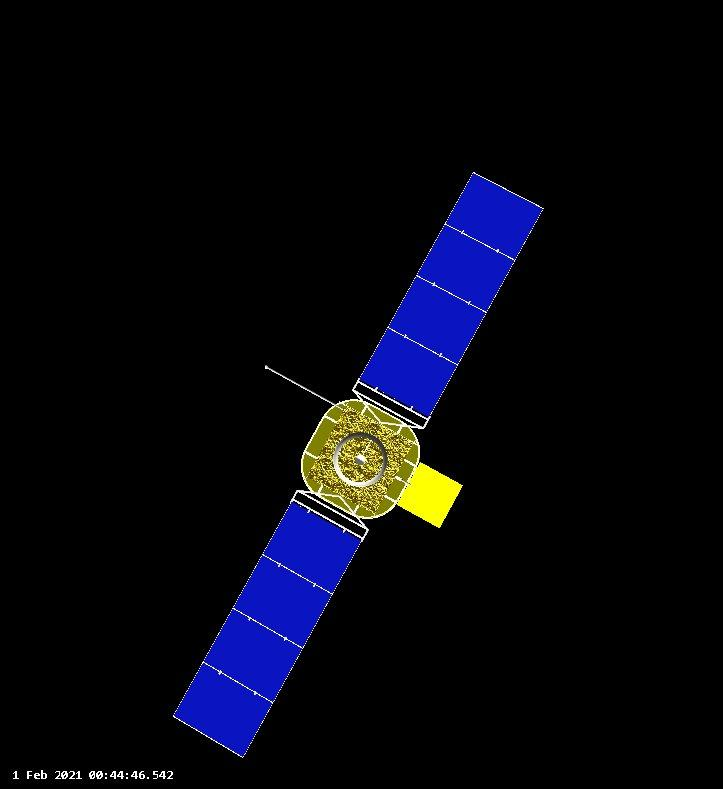antenna: (395, 462, 465, 529), (260, 362, 340, 408)
body: (300, 398, 421, 520)
solar: (171, 496, 362, 759), (357, 170, 547, 418)
thruster: (354, 453, 366, 465)
